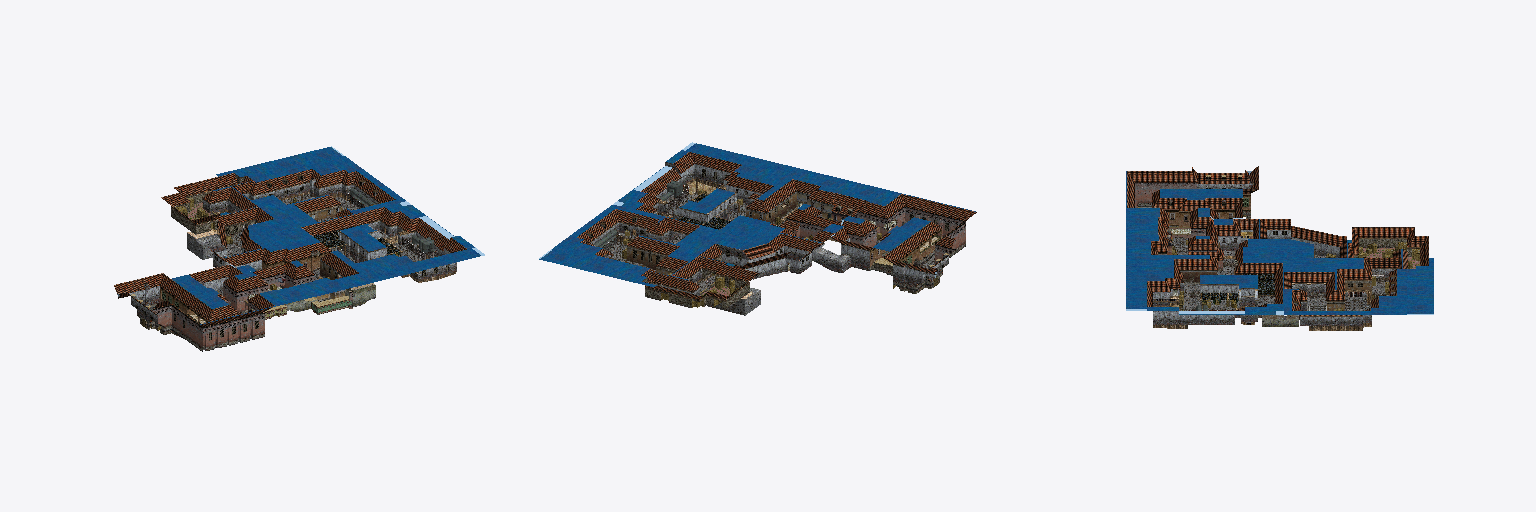
3 renders of one model, left to right at view 1: azimuth 30°, elevation 25°; view 2: azimuth 150°, elevation 25°; view 3: azimuth 270°, elevation 25°, orthographic.
Visible parts, largest first — view 1: inferno; view 2: inferno; view 3: inferno.
Boxes of the visible parts, x1=… form: inferno: x1=114, y1=146, x2=484, y2=351; inferno: x1=539, y1=142, x2=976, y2=315; inferno: x1=1126, y1=166, x2=1433, y2=330.
Size of the model in its own units: 506 by 64.8 by 442.
Materials: 86 (85 with a texture image).